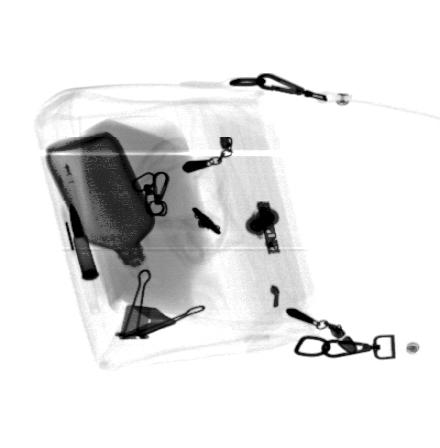Bullet: (68, 201, 99, 282)
